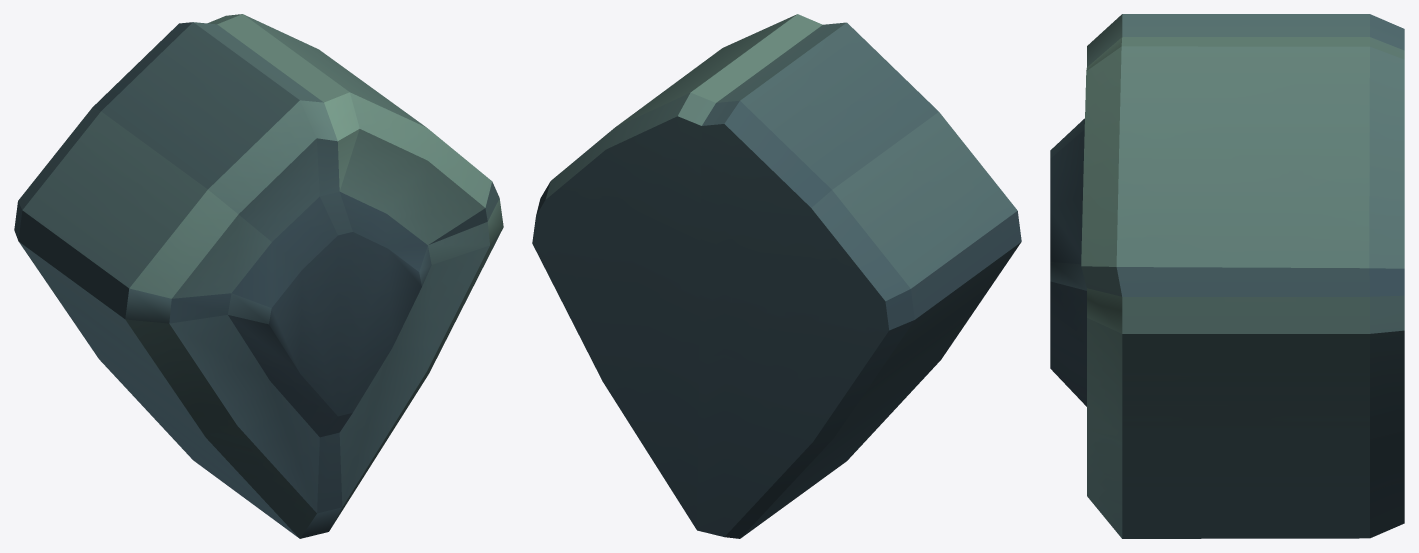
The model's file is ornament_6.fbx.
3 renders of one model, left to right at view 1: azimuth 30°, elevation 25°; view 2: azimuth 150°, elevation 25°; view 3: azimuth 270°, elevation 25°, orthographic. The views are drawn at different scales.
Parts seen in each view (by area): view 1: ornament_6; view 2: ornament_6; view 3: ornament_6.
Part boxes in pixels (left/top/right/bottom): ornament_6: left=14, top=14, right=503, bottom=538; ornament_6: left=532, top=14, right=1021, bottom=538; ornament_6: left=1050, top=14, right=1404, bottom=538.
Bounding box in the file's own units: 141 × 156 × 98.7.
